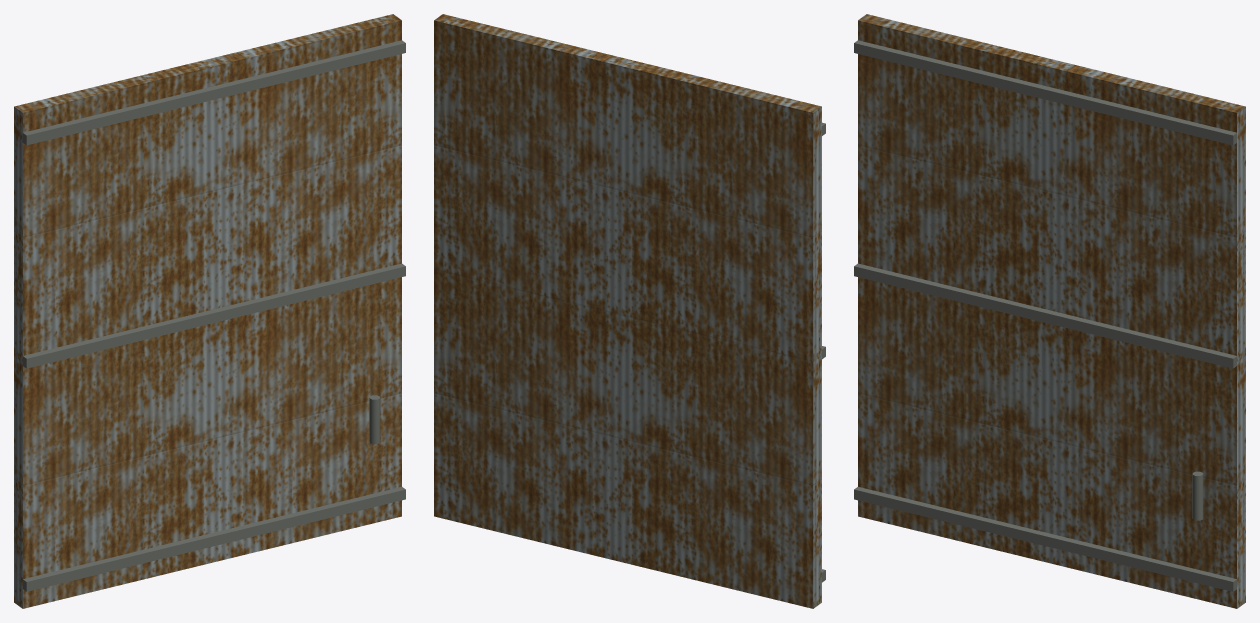
The model's file is sliding_door_panel.glb.
3 views of the same model, side by side, from view 1: azimuth 30°, elevation 25°; view 2: azimuth 150°, elevation 25°; view 3: azimuth 330°, elevation 25° (orthographic).
Visible parts, largest first — view 1: Sliding_door_leaf_separate, Door_reinforcement_4.75, Door_reinforcement_2.5, Door_reinforcement_0.25, Door_pull_handle; view 2: Sliding_door_leaf_separate; view 3: Sliding_door_leaf_separate, Door_reinforcement_0.25, Door_reinforcement_4.75, Door_reinforcement_2.5, Door_pull_handle.
Part boxes in pixels (left/top/right/bottom): Sliding_door_leaf_separate: left=14, top=14, right=401, bottom=608; Door_reinforcement_4.75: left=22, top=40, right=405, bottom=145; Door_reinforcement_2.5: left=22, top=263, right=405, bottom=368; Door_reinforcement_0.25: left=23, top=487, right=405, bottom=591; Door_pull_handle: left=369, top=395, right=380, bottom=444; Sliding_door_leaf_separate: left=434, top=14, right=821, bottom=608; Sliding_door_leaf_separate: left=858, top=14, right=1245, bottom=608; Door_reinforcement_0.25: left=854, top=487, right=1236, bottom=591; Door_reinforcement_4.75: left=854, top=40, right=1236, bottom=145; Door_reinforcement_2.5: left=854, top=263, right=1236, bottom=368; Door_pull_handle: left=1192, top=471, right=1203, bottom=520.
Bounding box in the file's own units: 4 × 5 × 0.32.
2 materials, 1 textured.
